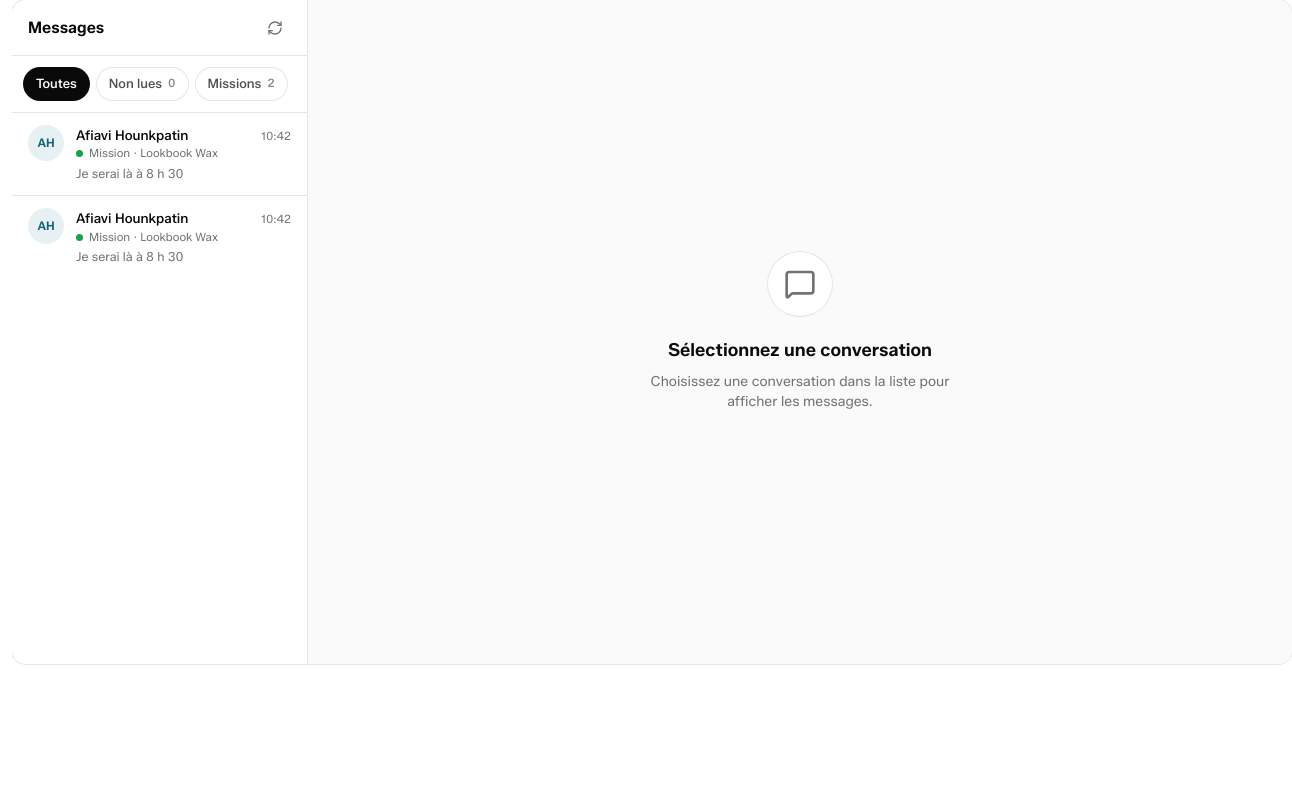
Test: Messagerie temps réel — robustesse › envoi réussi : la conversation remonte en tête avec le nouvel aperçu
Click the button with test id "conversation-item" at [160, 237], box [12,196,307,279]
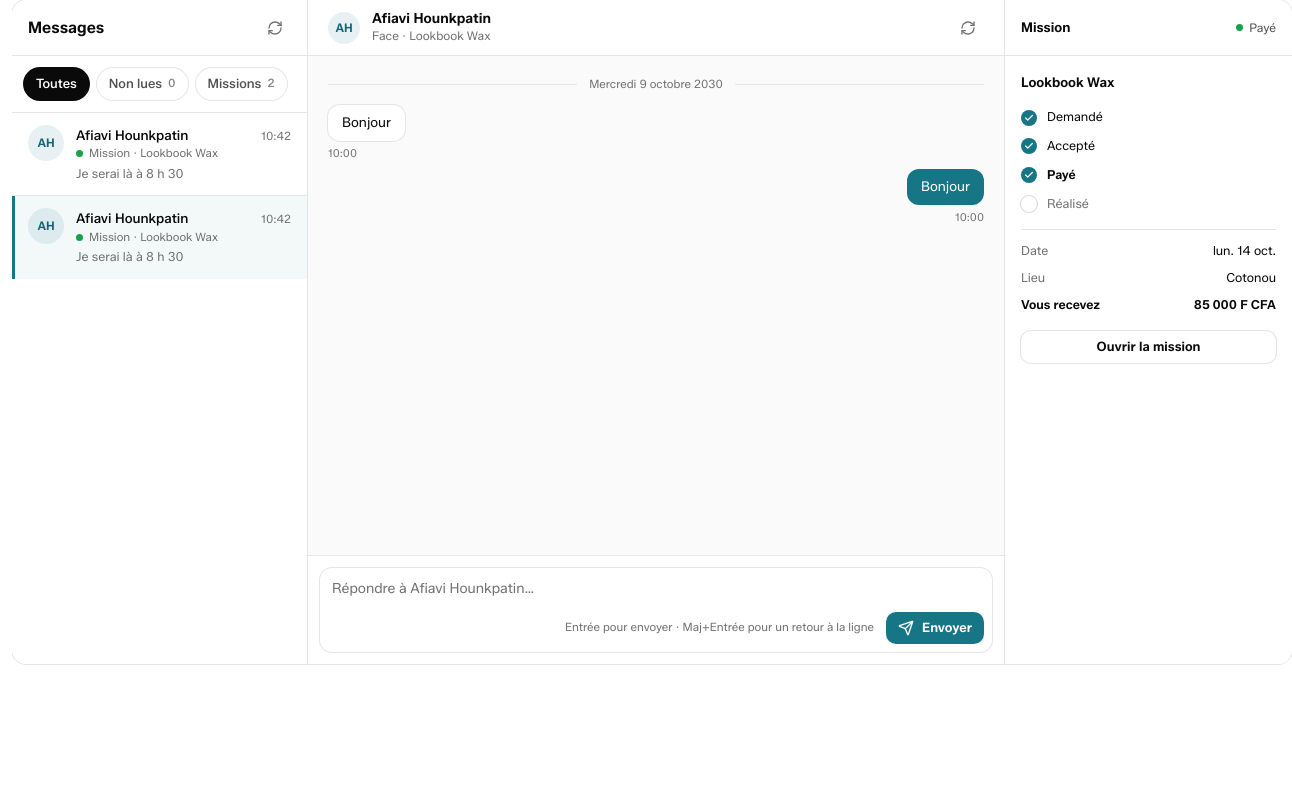
Type "Ma réponse" into the text box with placeholder "Répondre à Afiavi Hounkpatin…" at [656, 590], box [320,568,992,612]
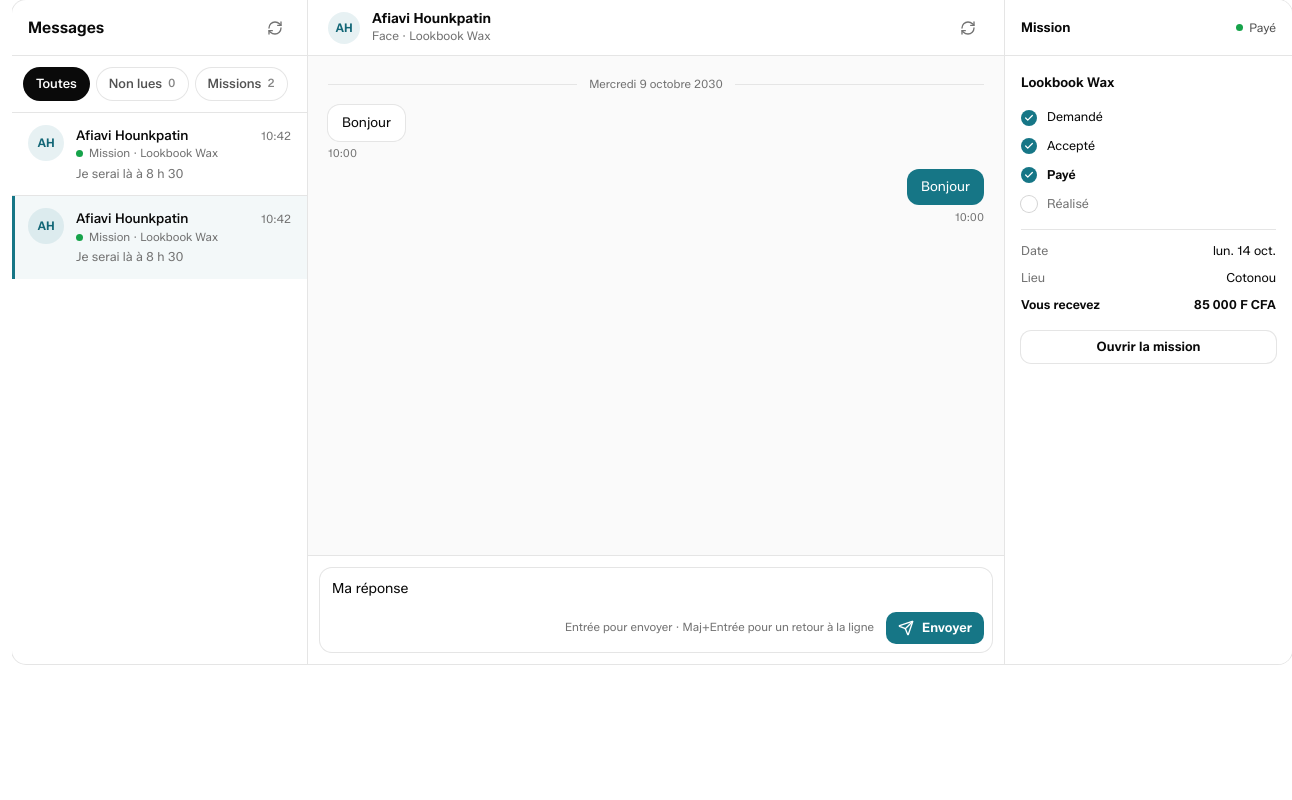
Press Enter in the text box named "Répondre à Afiavi Hounkpatin…", box [320,568,992,612]
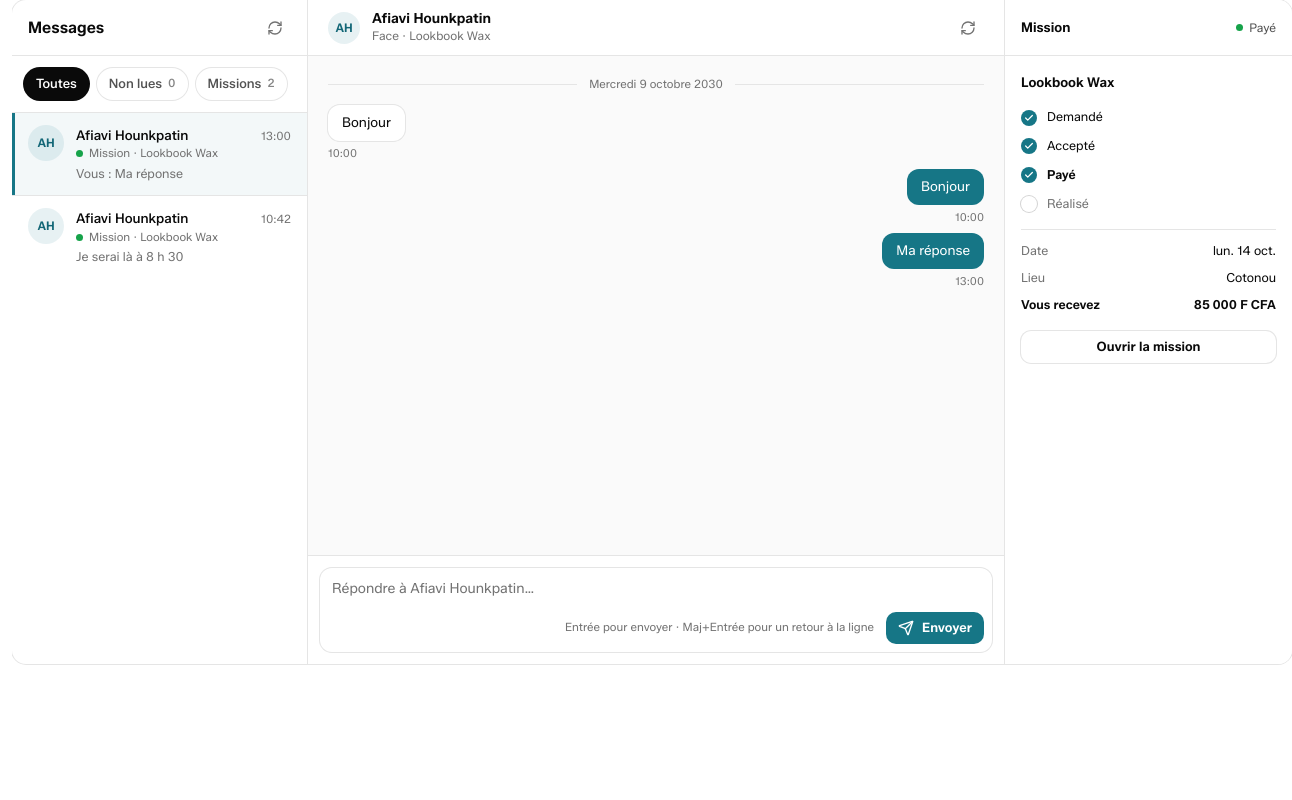
Now the button with test id "conversation-item" shows "Ma réponse", box [12,113,307,195]
